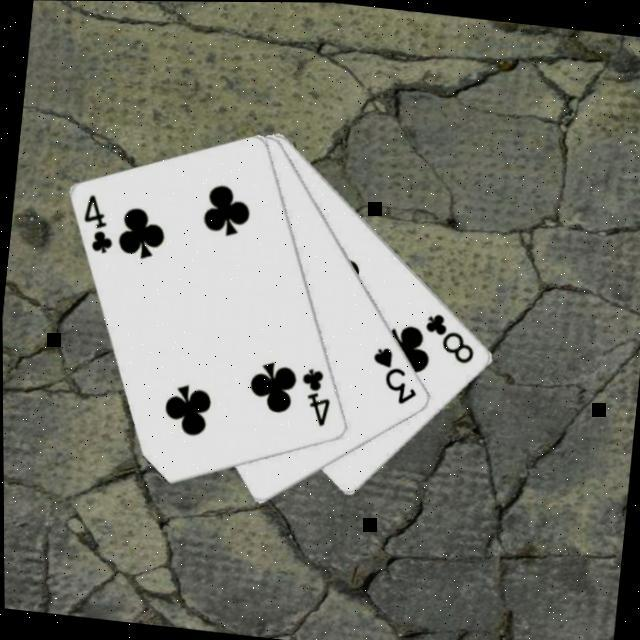3S: (365, 342, 423, 407)
4C: (78, 189, 121, 257), (295, 362, 337, 429)
8C: (419, 306, 481, 366)
